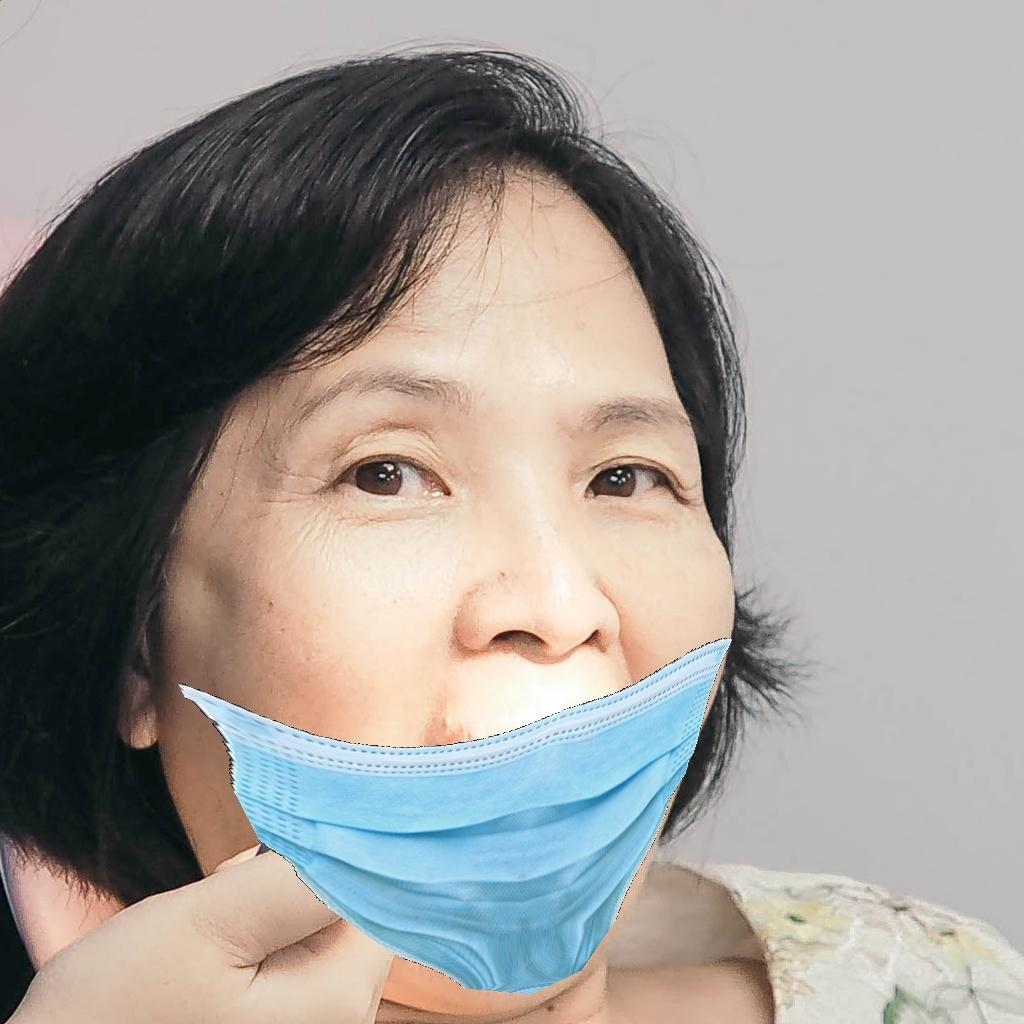Máscara Incorreta: (146, 276, 747, 982)
